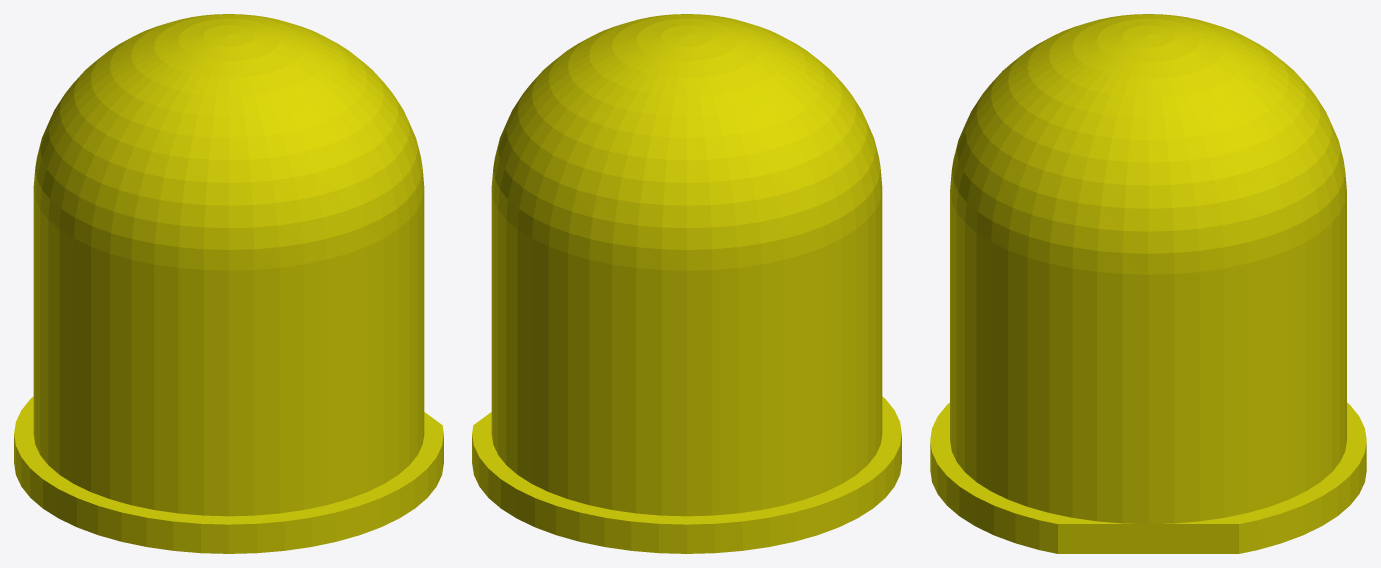
Rendered from Light.glb.
The picture shows the model from 3 angles, left to right: view 1: azimuth 30°, elevation 25°; view 2: azimuth 150°, elevation 25°; view 3: azimuth 270°, elevation 25°; orthographic projection.
Parts seen in each view (by area): view 1: Mesh_Mesh_head_geo.001_lambert2SG.001; view 2: Mesh_Mesh_head_geo.001_lambert2SG.001; view 3: Mesh_Mesh_head_geo.001_lambert2SG.001.
Part boxes in pixels (<box>): Mesh_Mesh_head_geo.001_lambert2SG.001: <box>14,14,443,553</box>; Mesh_Mesh_head_geo.001_lambert2SG.001: <box>472,14,901,553</box>; Mesh_Mesh_head_geo.001_lambert2SG.001: <box>930,14,1366,553</box>.
Size of the model in its own units: 10.5 by 12.1 by 11.
